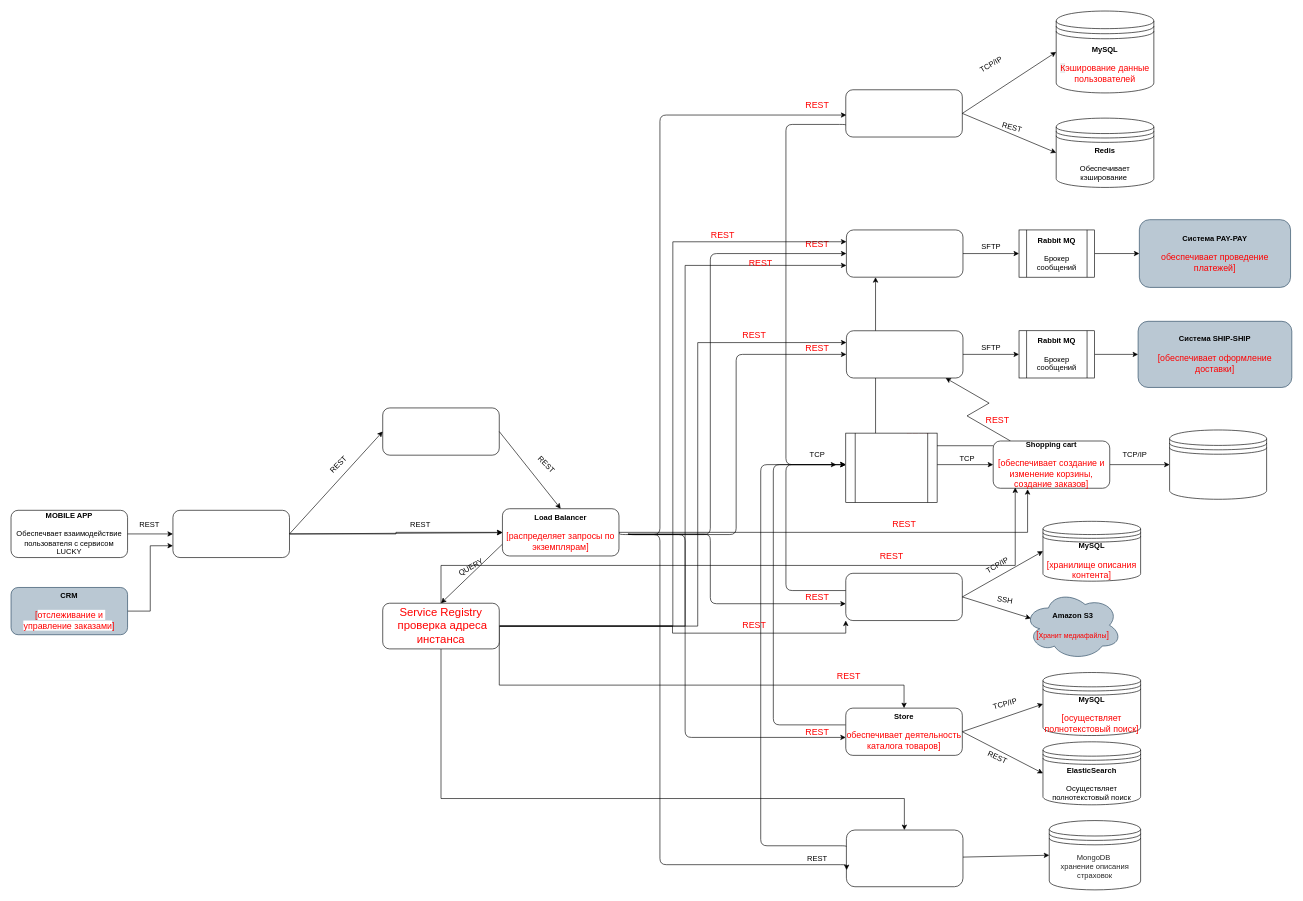
This 1303x901 diagram has some shape labels left out. Here are the shapes that lost their labels. From the top down, the centre of each, then its label:
At pixel 903 113: "User хранение и управление информацией пользователей".
At pixel 904 253: "Payment [Обеспечивает оплату заказов ]".
At pixel 904 354: "Shipping [обеспечивает оформление доставки ]".
At pixel 440 431: "AuthServer Осуществляет авторизацию пользователей в сервисе LUCKY".
At pixel 891 467: "Kafka Обеспечивает обмен сообщениями между сервисами".
At pixel 1218 464: "MySQL Хранит список заказов".
At pixel 230 534: "API GATEWAY".
At pixel 903 597: "Films [обеспечивает просмотр контента про животных ]".
At pixel 904 858: "Insurance [обеспечивает заказ страховок ]".
